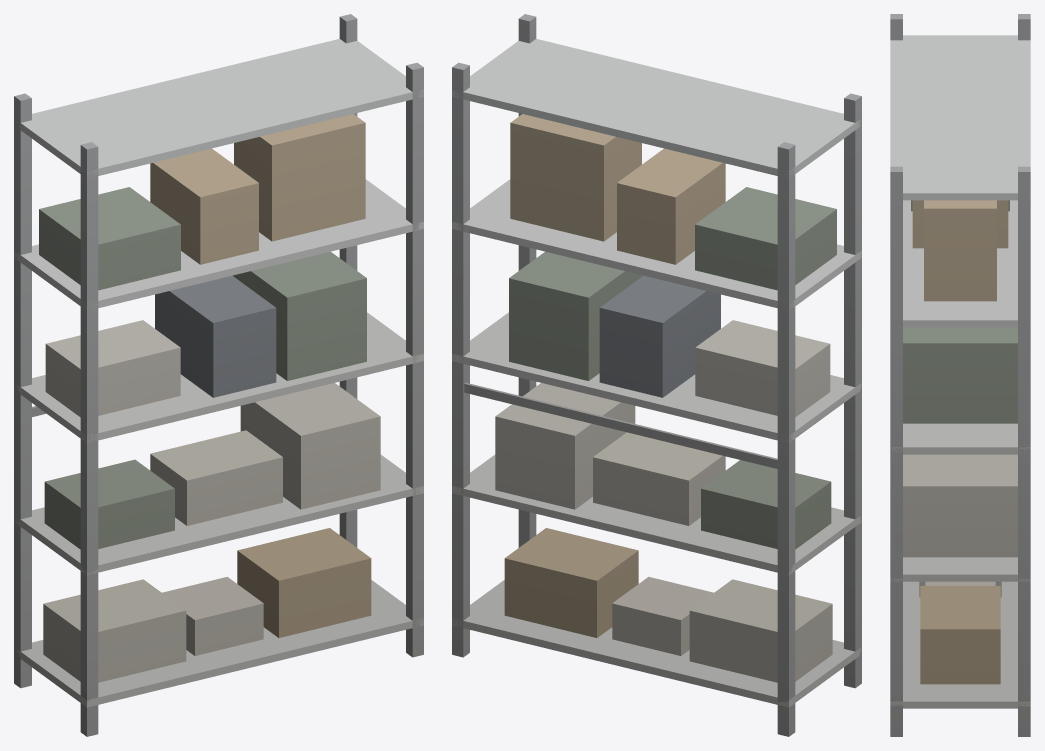
Rendered from shelf_steel.glb.
3 views of the same model, side by side, from view 1: azimuth 30°, elevation 25°; view 2: azimuth 150°, elevation 25°; view 3: azimuth 270°, elevation 25° (orthographic). The views are drawn at different scales.
Visible parts, largest first — view 1: shelf_steel; view 2: shelf_steel; view 3: shelf_steel.
Part boxes in pixels (x1,y1,x2,y2): shelf_steel: [14, 14, 423, 736]; shelf_steel: [452, 14, 861, 736]; shelf_steel: [890, 14, 1030, 736].
Bounding box in the file's own units: 1.2 × 2 × 0.45.
